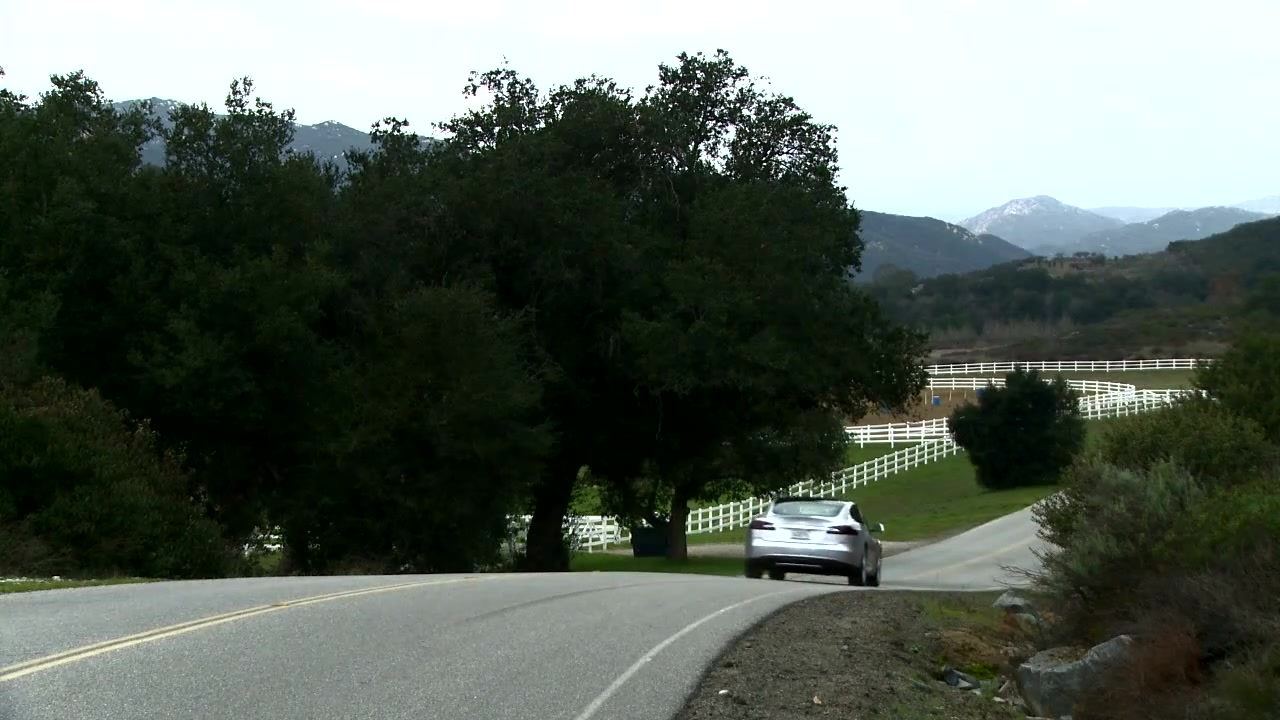car: (742, 496, 887, 589)
